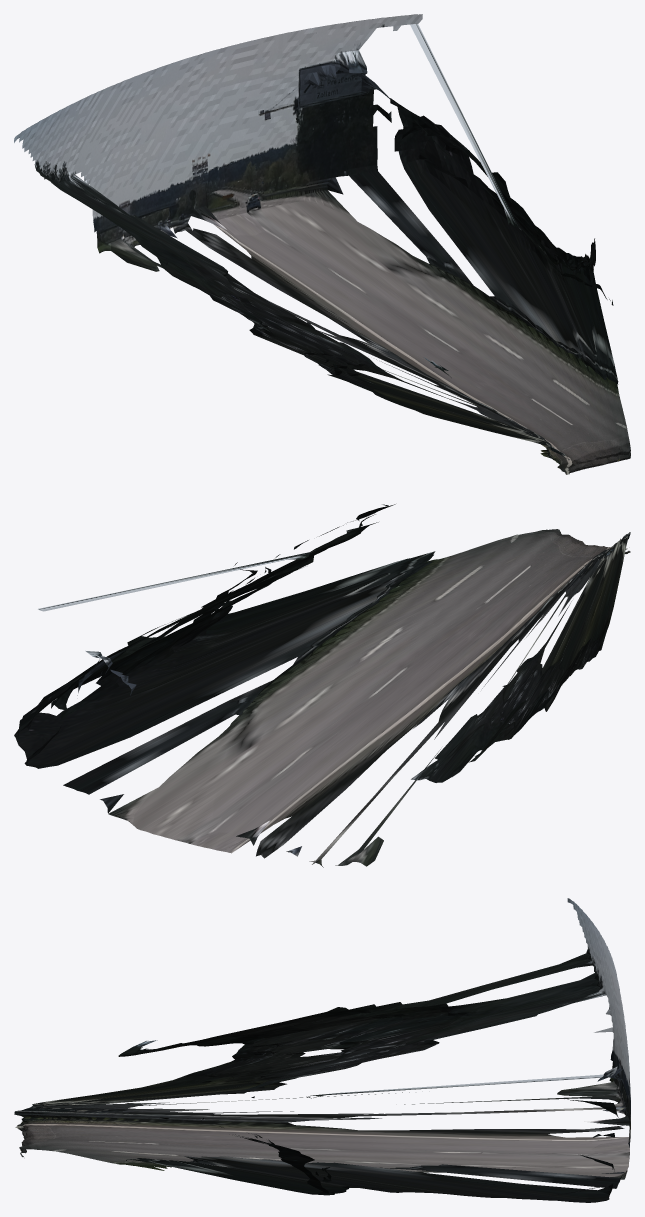
3 views of the same model, one above another, from view 1: azimuth 30°, elevation 25°; view 2: azimuth 150°, elevation 25°; view 3: azimuth 270°, elevation 25° (orthographic). The views are drawn at different scales.
Visible parts, largest first — view 1: defaultobject; view 2: defaultobject; view 3: defaultobject.
Boxes of the visible parts, box(x1,y1,x2,y2) form: defaultobject: box(14, 14, 630, 474); defaultobject: box(14, 504, 630, 867); defaultobject: box(14, 898, 630, 1202).
Size of the model in its own units: 32.09 by 12.34 by 44.74.
1 material, 1 textured.
